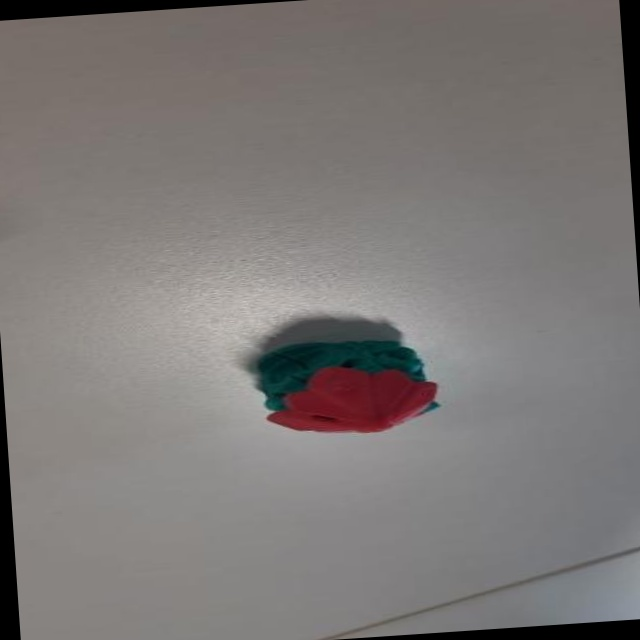House: (233, 328, 444, 448)
